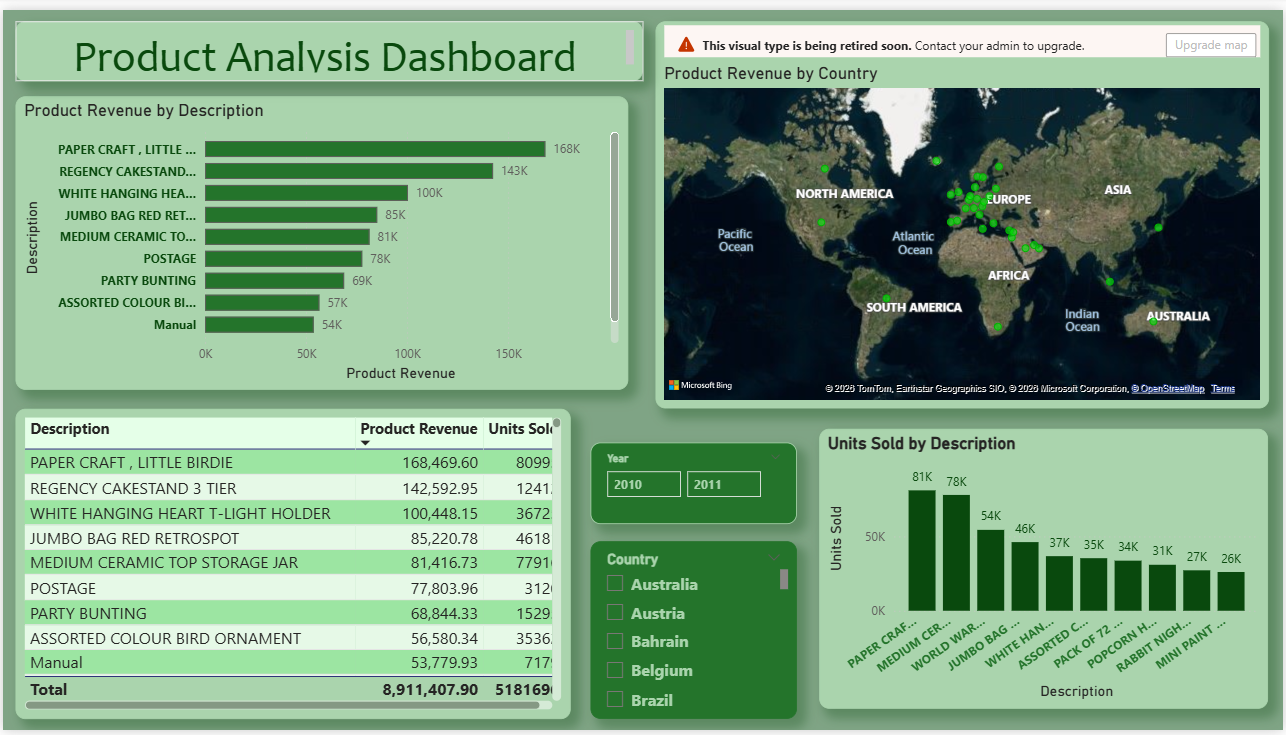

This screenshot's page, from the dashboard's own definition file:
{"tool":"powerbi","page":{"name":"Product Performance","canvas":[1280,720],"ordinal":2},"visuals":[{"type":"barChart","fields":{"Category":["Online Retail.Description"],"Y":["Measure.Product Revenue"]},"box":[12.5,86.2,612.5,293.8],"z":0},{"type":"columnChart","fields":{"Y":["Measure.Units Sold"],"Category":["Online Retail.Description"]},"box":[816.2,418.8,448.8,280],"z":1000},{"type":"map","fields":{"Category":["Online Retail.Country"],"Y":["Measure.Product Revenue"]},"box":[652.5,11.2,613.8,387.5],"z":2000},{"type":"tableEx","fields":{"Values":["Online Retail.Description","Measure.Product Revenue","Measure.Units Sold"]},"box":[12.5,398.8,555,310],"z":3000},{"type":"slicer","fields":{"Values":["Online Retail.Country"]},"box":[587.5,531.2,206.2,177.5],"z":4000},{"type":"slicer","fields":{"Values":["Online Retail.Year"]},"box":[587.5,432.5,206.2,81.2],"z":5000},{"type":"textbox","box":[12.5,11.2,627.5,60],"z":6000}]}

Visuals, with their boxes in screenshot pixels (x1, y1, x2, y2), scaled from the page's 1280x720 canvas onto the 1286x735 screenshot:
barChart - Online Retail.Description x Measure.Product Revenue: pyautogui.locateOnScreen(13, 88, 628, 388)
columnChart - Measure.Units Sold x Online Retail.Description: pyautogui.locateOnScreen(820, 428, 1271, 713)
map - Online Retail.Country x Measure.Product Revenue: pyautogui.locateOnScreen(656, 11, 1272, 407)
tableEx - Online Retail.Description x Measure.Product Revenue: pyautogui.locateOnScreen(13, 407, 570, 724)
slicer - Online Retail.Country: pyautogui.locateOnScreen(590, 542, 797, 723)
slicer - Online Retail.Year: pyautogui.locateOnScreen(590, 442, 797, 524)
textbox: pyautogui.locateOnScreen(13, 11, 643, 73)
